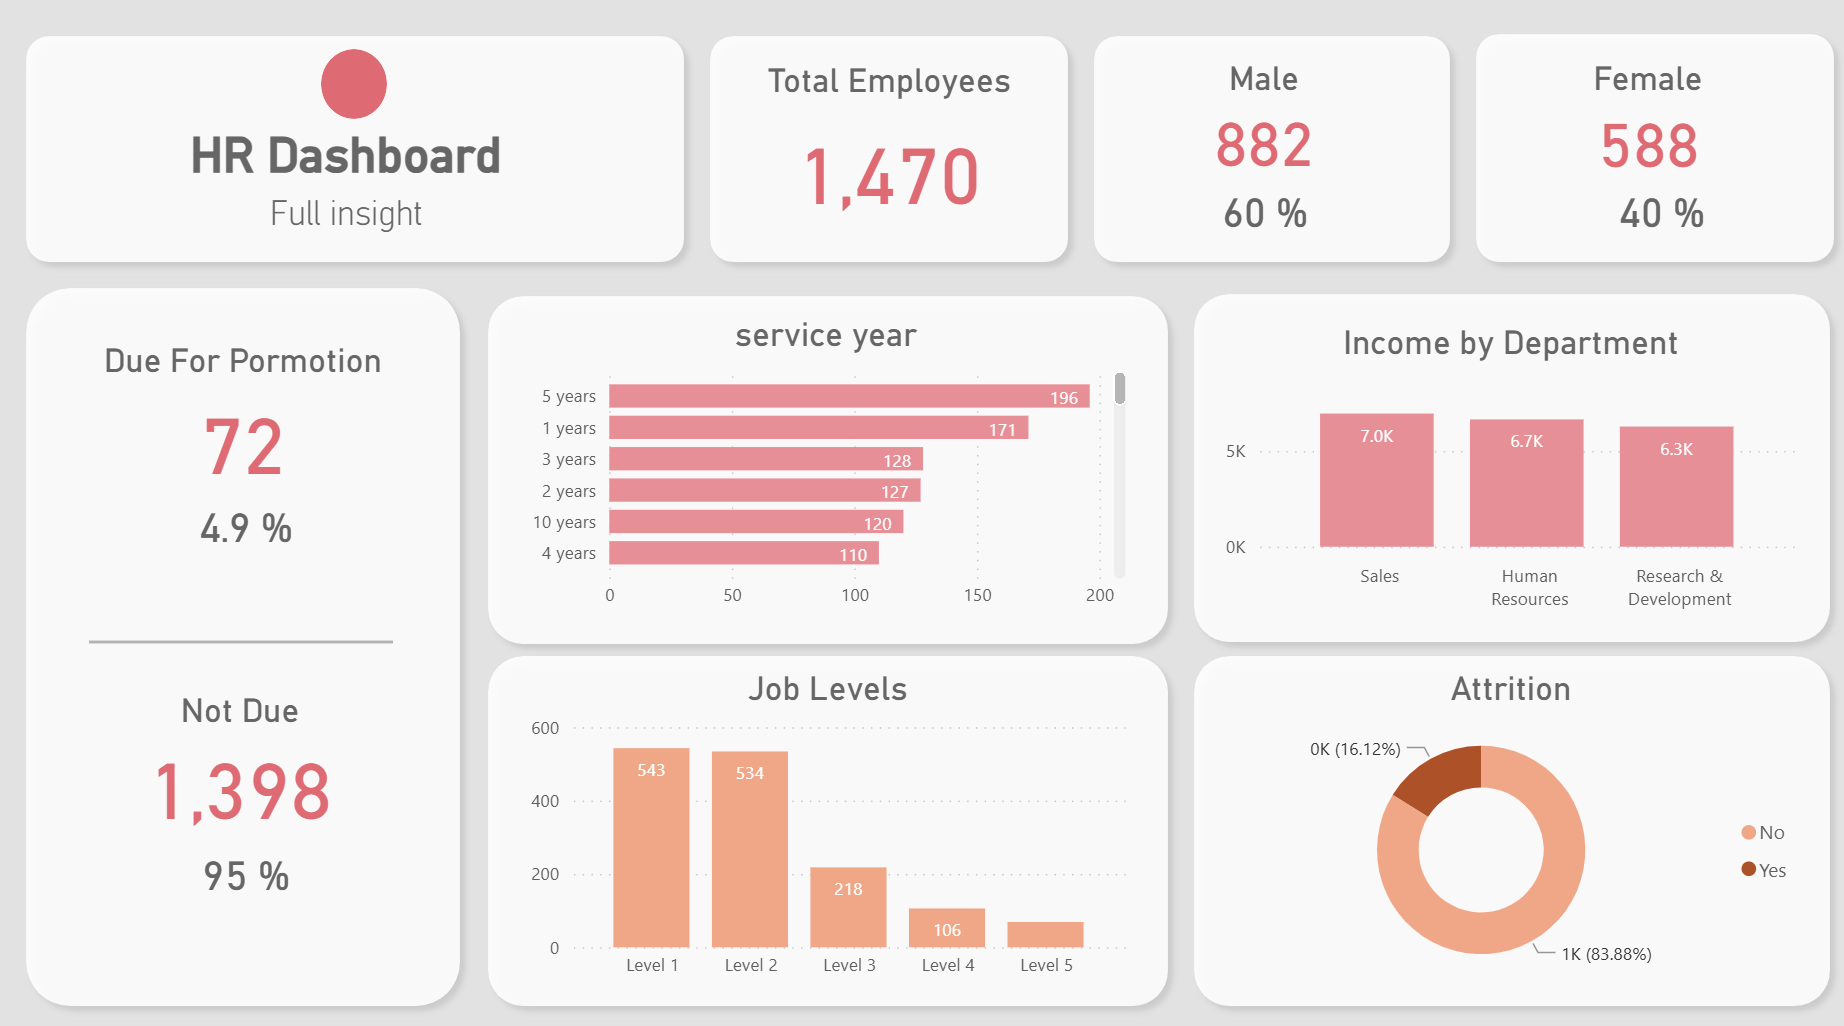

The page's visual inventory and layout, read from the dashboard file:
{"tool":"powerbi","page":{"name":"Page ١","canvas":[1280,720],"ordinal":0},"visuals":[{"type":"shape","box":[1006.7,22,263.7,174.4],"z":1000},{"type":"shape","box":[744.4,23.3,262.3,173],"z":2000},{"type":"shape","box":[480.7,23.3,263.7,173],"z":3000},{"type":"shape","box":[11,23.3,469.7,173],"z":4000},{"type":"shape","box":[11,196.4,315.9,510.9],"z":5000},{"type":"shape","box":[328.2,201.9,484.8,256.8],"z":6000},{"type":"shape","box":[328.2,449.1,484.8,258.2],"z":7000},{"type":"shape","box":[813,200.5,454.6,256.8],"z":8000},{"type":"shape","box":[813,449.1,454.6,258.2],"z":9000},{"type":"textbox","box":[11,89.3,457.3,65.9],"z":10000},{"type":"textbox","box":[11,134.6,457.3,67.3],"z":11000},{"type":"shape","box":[222.5,41.2,45.3,48.1],"z":12000},{"type":"card","title":"Total Employees","fields":{"Values":["All Meassuers.total Emp"]},"box":[501.4,49.5,222.7,118.8],"z":13000},{"type":"card","title":"Male","fields":{"Values":["All Meassuers.Male"]},"box":[805.8,48.1,127.7,82.4],"z":14000},{"type":"card","title":"Male","fields":{"Values":["All Meassuers.% Male"]},"box":[829.2,123.6,82.4,56.3],"z":15000},{"type":"card","title":"Female","fields":{"Values":["All Meassuers.Female"]},"box":[1069.5,48.1,127.7,83.8],"z":16000},{"type":"card","title":"Male","fields":{"Values":["All Meassuers.% Female"]},"box":[1097,123.6,92,56.3],"z":17000},{"type":"card","title":"Due For Pormotion","fields":{"Values":["All Meassuers.Due For Promotion"]},"box":[50.4,241.7,236.2,104.4],"z":20000},{"type":"card","title":"Not Due","fields":{"Values":["All Meassuers.Not Due"]},"box":[26.1,482.1,281.5,97.5],"z":21000},{"type":"card","fields":{"Values":["All Meassuers.% Due For Pormotion"]},"box":[95.8,322.7,149.7,90.6],"z":22000},{"type":"card","fields":{"Values":["All Meassuers.% Not Due"]},"box":[95.8,561.7,149.7,90.6],"z":23000},{"type":"shape","box":[63.2,428.5,208.8,39.8],"z":24000},{"type":"barChart","title":" service year","fields":{"Category":["HR Analytics Data.service year"],"Y":["All Meassuers.total Emp"]},"box":[358.5,223.9,421.6,210.1],"z":25000},{"type":"columnChart","title":" Job Levels","fields":{"Category":["HR Analytics Data.Job Levels"],"Y":["All Meassuers.total Emp"]},"box":[361.2,467,418.9,221.1],"z":26000},{"type":"donutChart","title":" Attrition","fields":{"Category":["HR Analytics Data.Attrition"],"Y":["All Meassuers.total Emp"]},"box":[836.4,467,406.5,222.5],"z":27000},{"type":"clusteredColumnChart","title":"Income by Department","fields":{"Category":["HR Analytics Data.Department"],"Y":["Avg(HR Analytics Data.MonthlyIncome)"]},"box":[836.4,229.4,406.5,204.6],"z":28000}]}

Visuals, with their boxes in screenshot pixels (x1, y1, x2, y2), scaled from the page's 1280x720 canvas onto the 1844x1026 screenshot:
shape: BBox(1450, 31, 1830, 280)
shape: BBox(1072, 33, 1450, 280)
shape: BBox(693, 33, 1072, 280)
shape: BBox(16, 33, 693, 280)
shape: BBox(16, 280, 471, 1008)
shape: BBox(473, 288, 1171, 654)
shape: BBox(473, 640, 1171, 1008)
shape: BBox(1171, 286, 1826, 652)
shape: BBox(1171, 640, 1826, 1008)
textbox: BBox(16, 127, 675, 221)
textbox: BBox(16, 192, 675, 288)
shape: BBox(321, 59, 386, 127)
"Total Employees" card: BBox(722, 71, 1043, 240)
"Male" card: BBox(1161, 69, 1345, 186)
"Male" card: BBox(1195, 176, 1313, 256)
"Female" card: BBox(1541, 69, 1725, 188)
"Male" card: BBox(1580, 176, 1713, 256)
"Due For Pormotion" card: BBox(73, 344, 413, 493)
"Not Due" card: BBox(38, 687, 443, 826)
card - All Meassuers.% Due For Pormotion: BBox(138, 460, 354, 589)
card - All Meassuers.% Not Due: BBox(138, 800, 354, 930)
shape: BBox(91, 611, 392, 667)
" service year" barChart: BBox(516, 319, 1124, 618)
" Job Levels" columnChart: BBox(520, 665, 1124, 981)
" Attrition" donutChart: BBox(1205, 665, 1791, 983)
"Income by Department" clusteredColumnChart: BBox(1205, 327, 1791, 618)
